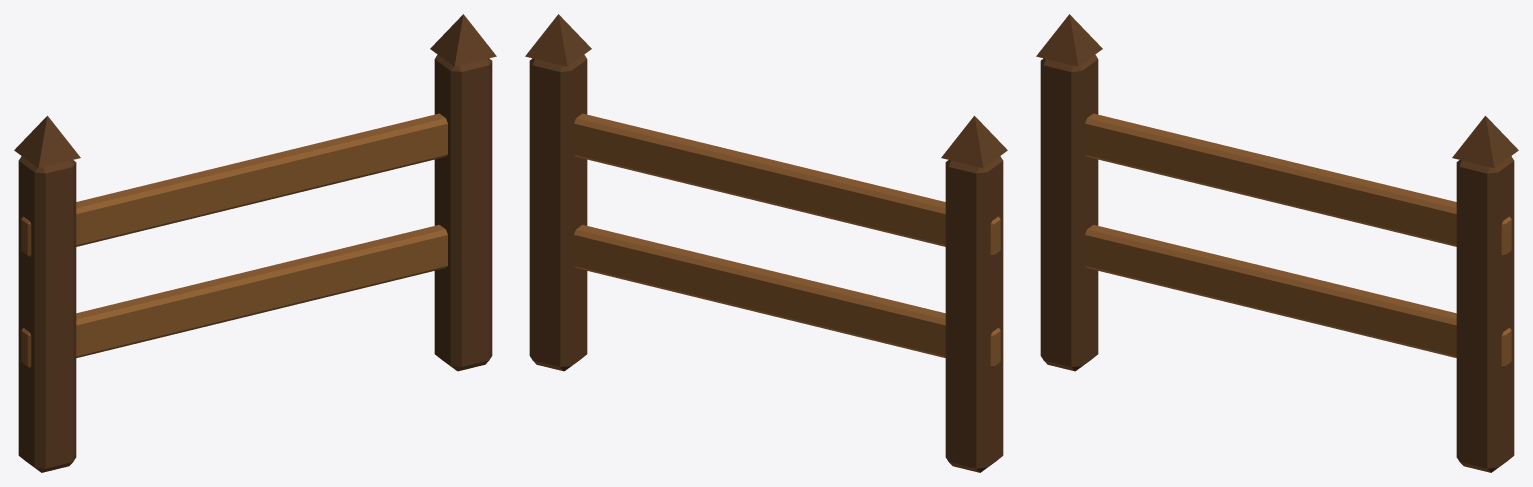
File: PR_Building_Cit.fbx
The picture shows the model from 3 angles, left to right: view 1: azimuth 30°, elevation 25°; view 2: azimuth 150°, elevation 25°; view 3: azimuth 330°, elevation 25°; orthographic projection.
Visible parts, largest first — view 1: PR_Building_Cit; view 2: PR_Building_Cit; view 3: PR_Building_Cit.
Boxes of the visible parts, <box> form: PR_Building_Cit: <box>14,14,496,472</box>; PR_Building_Cit: <box>525,14,1007,472</box>; PR_Building_Cit: <box>1036,14,1518,472</box>.
Bounding box in the file's own units: 1 × 0.72 × 0.0919.
1 material, 1 textured.
